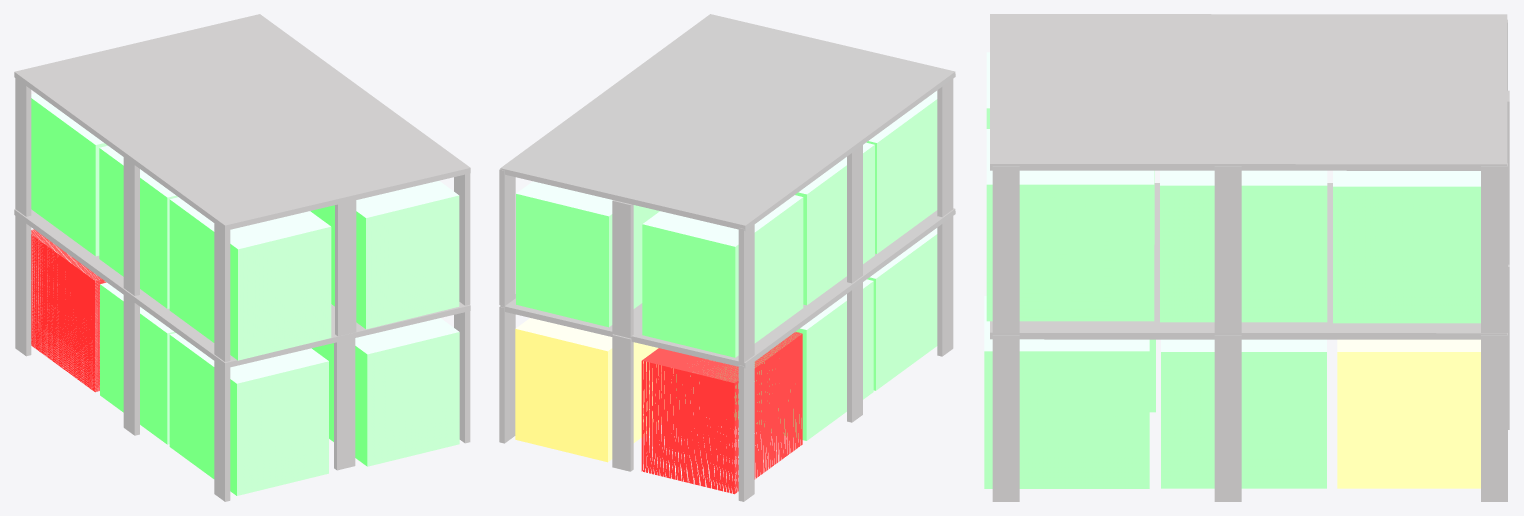
3 renders of one model, left to right at view 1: azimuth 30°, elevation 25°; view 2: azimuth 150°, elevation 25°; view 3: azimuth 270°, elevation 25°, orthographic. The views are drawn at different scales.
Visible parts, largest first — view 1: Box (×20); view 2: Box (×20); view 3: Box (×14).
Part boxes in pixels (x1,y1,x2,y2): Box (×20): (14, 14, 470, 501); Box (×20): (499, 14, 955, 501); Box (×14): (984, 14, 1507, 501).
Size of the model in its own units: 9.99 by 10.75 by 15.02.
